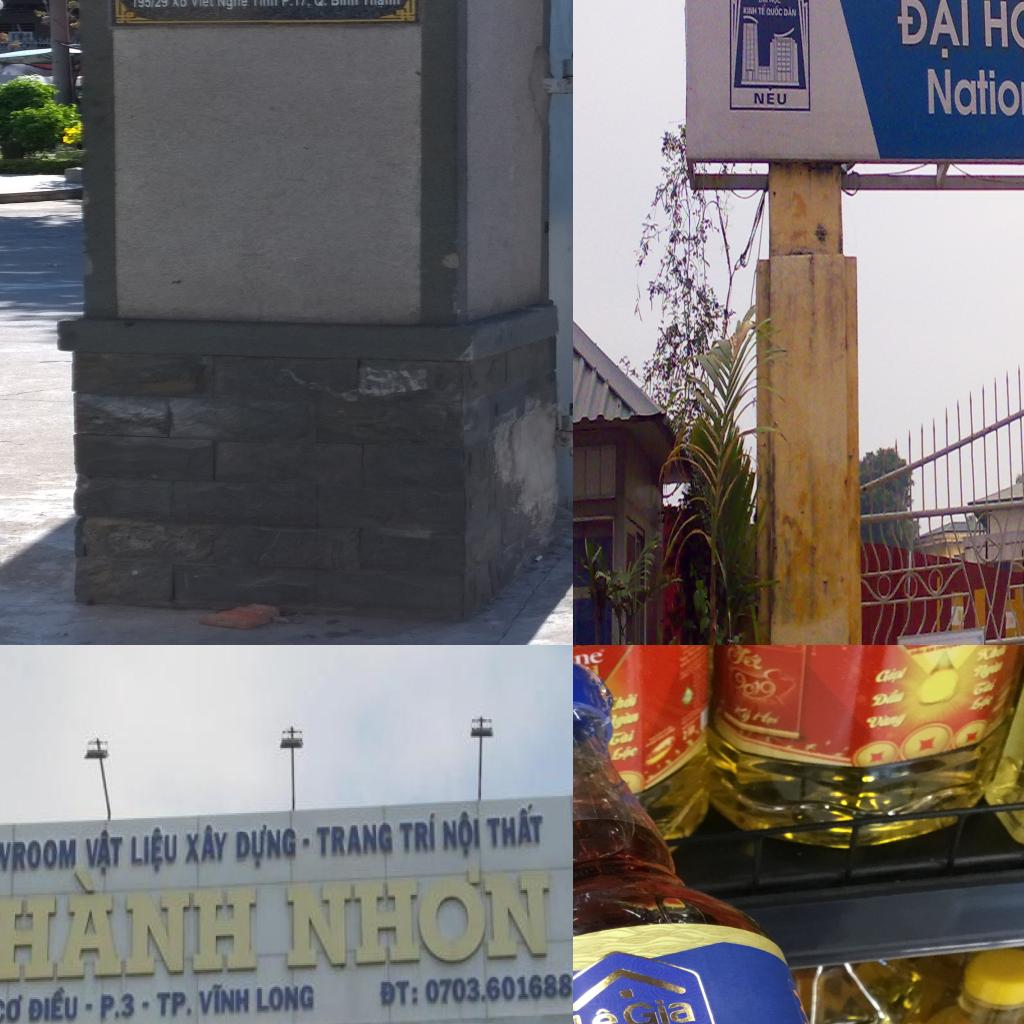text: (0, 866, 261, 989), (284, 862, 552, 974), (423, 971, 573, 1009), (925, 64, 1024, 120), (893, 0, 974, 60), (0, 837, 79, 878), (314, 820, 394, 859), (235, 822, 298, 871), (485, 801, 545, 851), (980, 0, 1024, 65), (129, 825, 180, 876), (617, 995, 699, 1024), (26, 983, 80, 1024), (83, 828, 126, 878), (256, 982, 317, 1016), (184, 823, 230, 868), (195, 982, 252, 1018), (442, 810, 482, 860), (398, 811, 437, 854), (732, 671, 780, 702), (378, 979, 420, 1011), (98, 990, 137, 1023), (155, 987, 194, 1020), (725, 645, 770, 672), (573, 1003, 620, 1024), (0, 990, 25, 1024), (866, 712, 908, 730), (973, 659, 1005, 681), (875, 666, 911, 685), (750, 708, 784, 728), (872, 688, 906, 708), (728, 700, 754, 725), (974, 645, 1009, 663), (609, 744, 640, 763), (752, 92, 787, 108), (612, 710, 640, 730), (607, 728, 637, 746), (973, 677, 999, 697), (969, 693, 994, 713), (614, 692, 638, 710), (362, 0, 403, 9), (216, 0, 249, 11), (130, 0, 171, 8), (314, 0, 359, 6), (281, 0, 314, 7), (250, 0, 281, 7), (765, 6, 783, 18), (782, 5, 797, 19), (742, 4, 758, 17), (190, 0, 216, 7), (171, 0, 189, 7), (758, 4, 767, 17), (768, 0, 782, 6), (757, 0, 768, 5)
